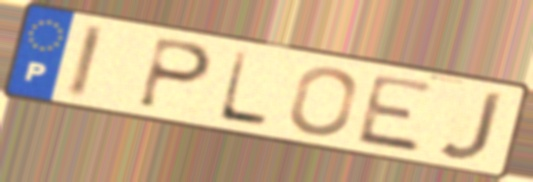E: (352, 72, 439, 156)
I: (63, 21, 109, 103)
J: (435, 90, 507, 163)
L: (214, 48, 273, 131)
O: (286, 65, 360, 138)
P: (133, 34, 216, 113)
